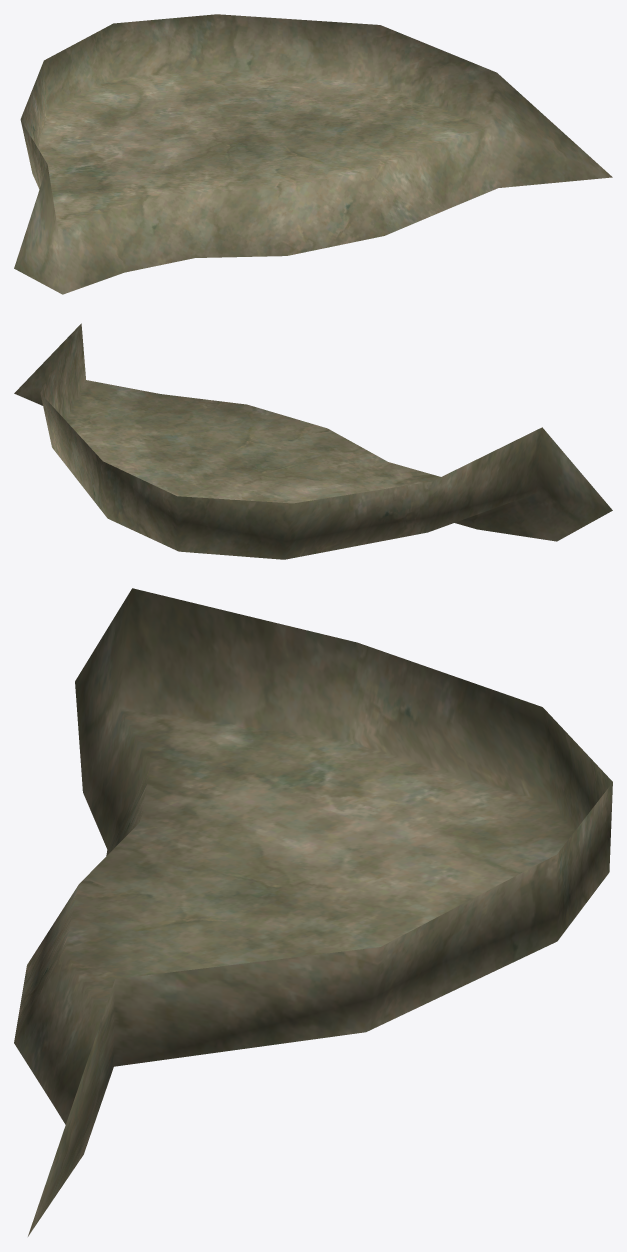
File: EKH_CAVERNS_PS_CA_PLATFORM88476.fbx
3 views of the same model, one above another, from view 1: azimuth 30°, elevation 25°; view 2: azimuth 150°, elevation 25°; view 3: azimuth 270°, elevation 25° (orthographic). The views are drawn at different scales.
Visible parts, largest first — view 1: EKH_CAVERNS_PS_CA_PLATFORM88476; view 2: EKH_CAVERNS_PS_CA_PLATFORM88476; view 3: EKH_CAVERNS_PS_CA_PLATFORM88476.
Boxes of the visible parts, left/top/right/bottom form: EKH_CAVERNS_PS_CA_PLATFORM88476: left=14, top=14, right=612, bottom=294; EKH_CAVERNS_PS_CA_PLATFORM88476: left=14, top=323, right=612, bottom=559; EKH_CAVERNS_PS_CA_PLATFORM88476: left=14, top=588, right=612, bottom=1236.
Size of the model in its own units: 57279 by 11306 by 29845.
1 material, 1 textured.
